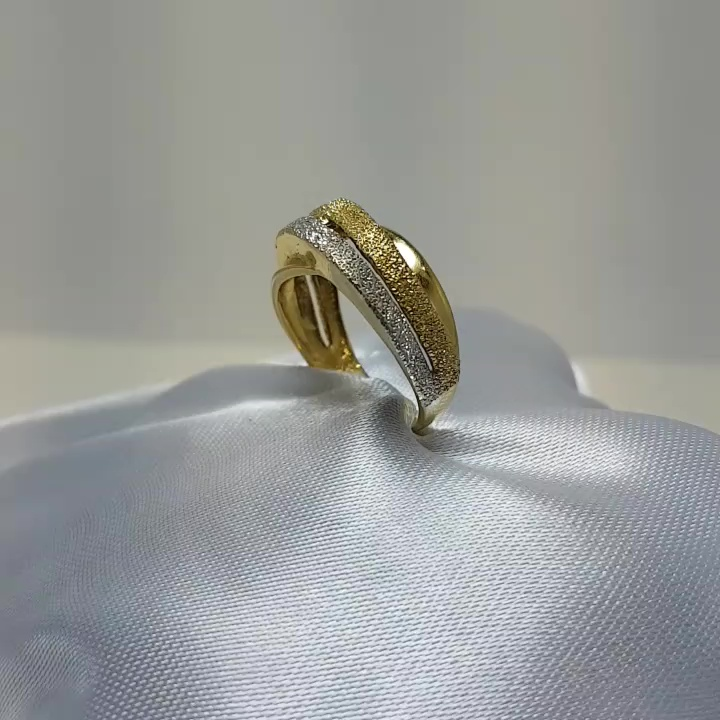Ring 5: (243, 186, 496, 474)
